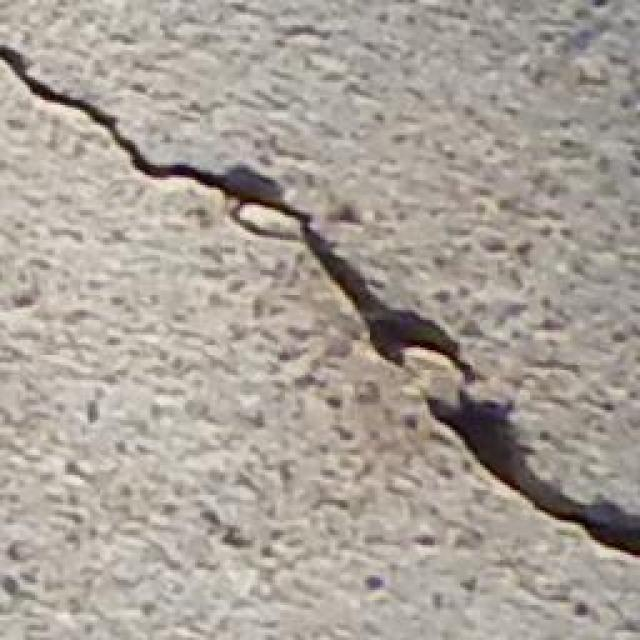concrete-crack: (0, 23, 640, 568)
